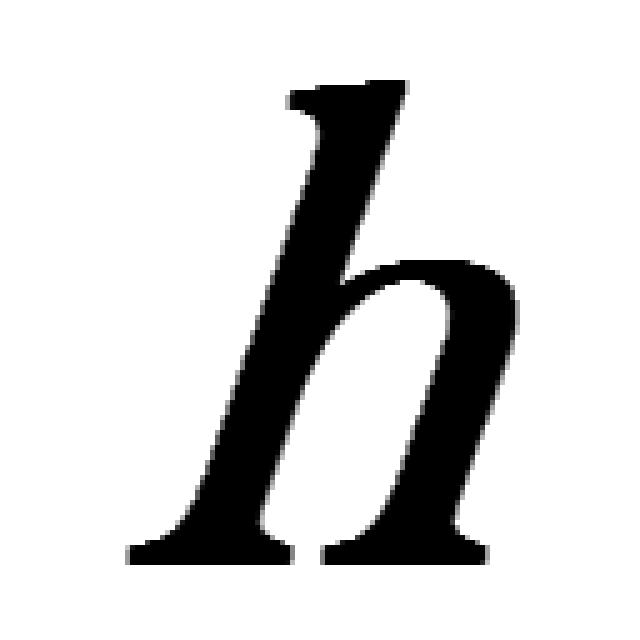H: (130, 80, 520, 565)
